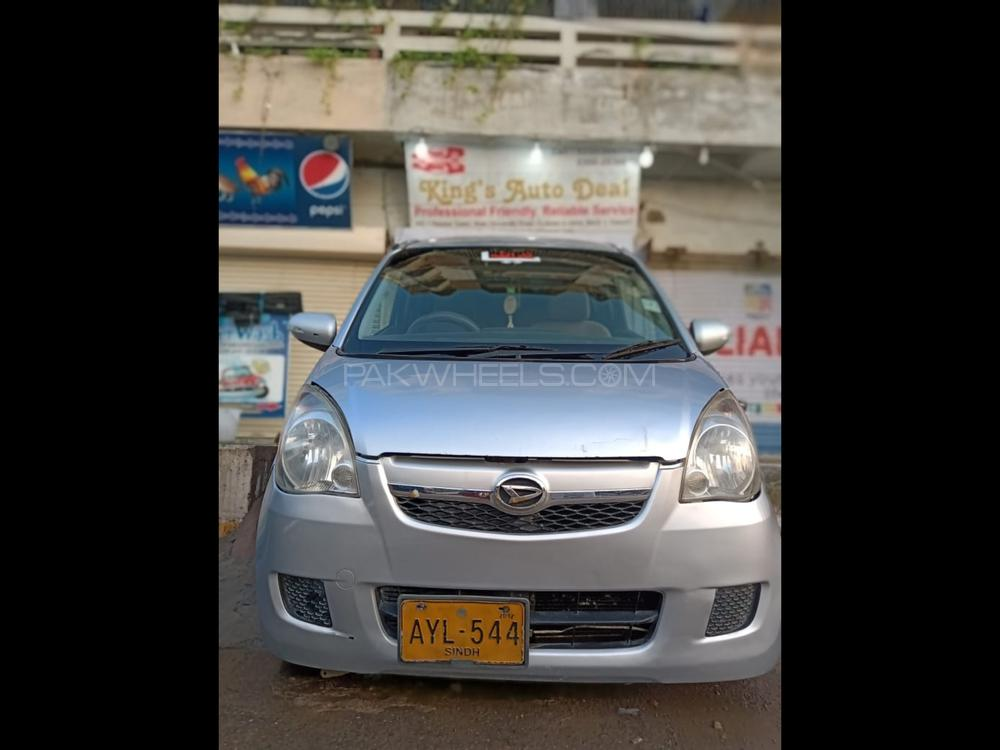license plate: (397, 597, 531, 665)
